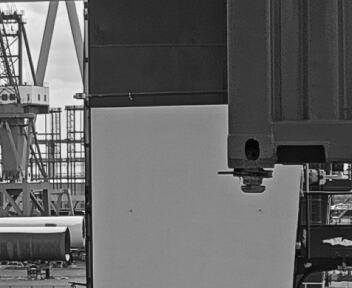twist_lock_1: (227, 160, 277, 203)
